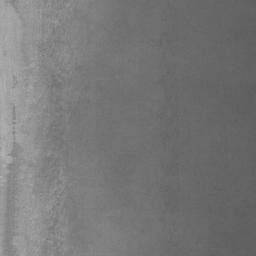Silk spot: (35, 155, 59, 186), (38, 37, 64, 57), (44, 71, 62, 96), (44, 211, 58, 240), (39, 240, 63, 256), (47, 120, 64, 141), (52, 191, 62, 215), (32, 184, 44, 201), (52, 24, 65, 35)
